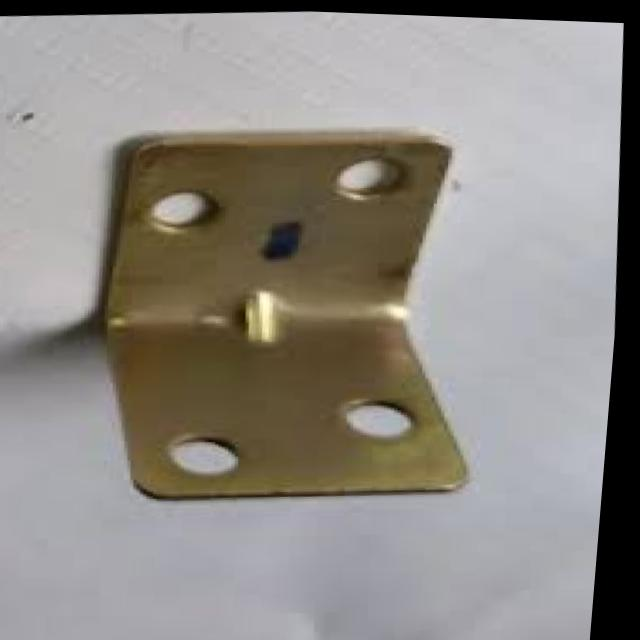holes: (336, 155, 404, 200), (350, 397, 421, 440), (175, 437, 246, 478), (151, 188, 219, 229)
